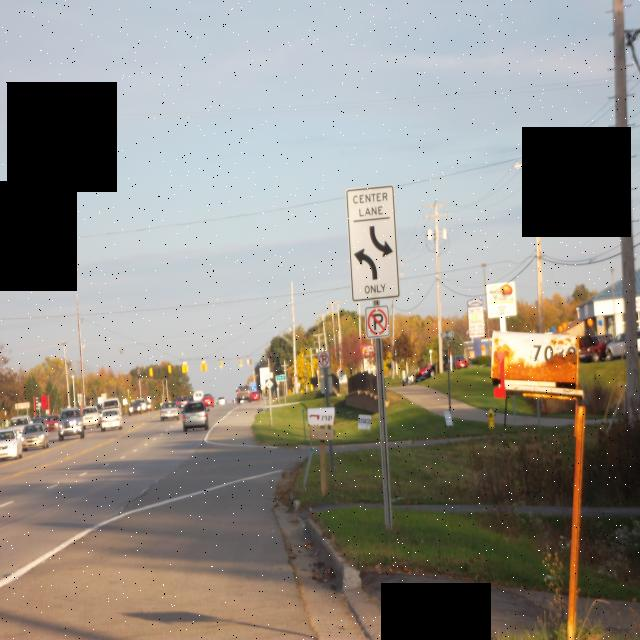regulatory: (347, 182, 401, 302)
